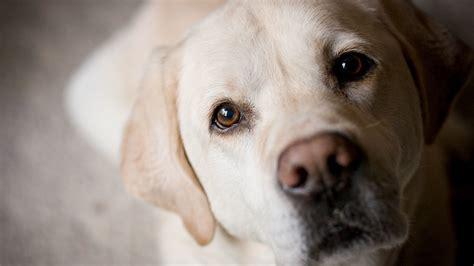dog: (69, 1, 466, 266)
